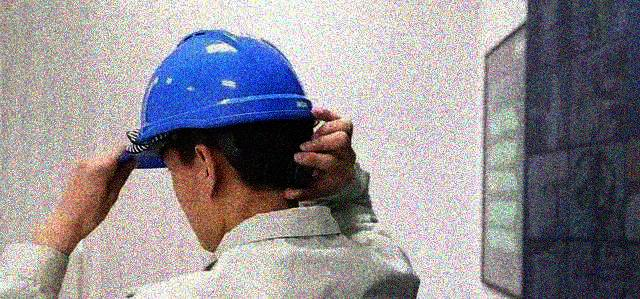helmet: (126, 28, 317, 252)
